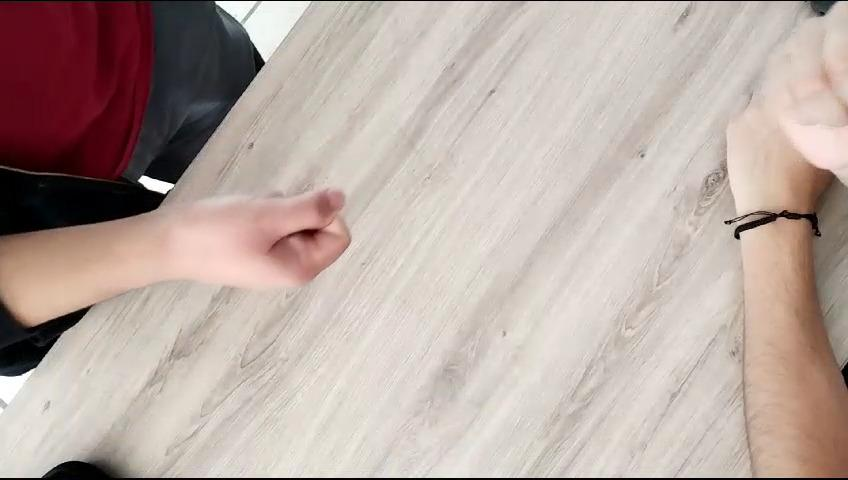Stone: (145, 148, 427, 354)
